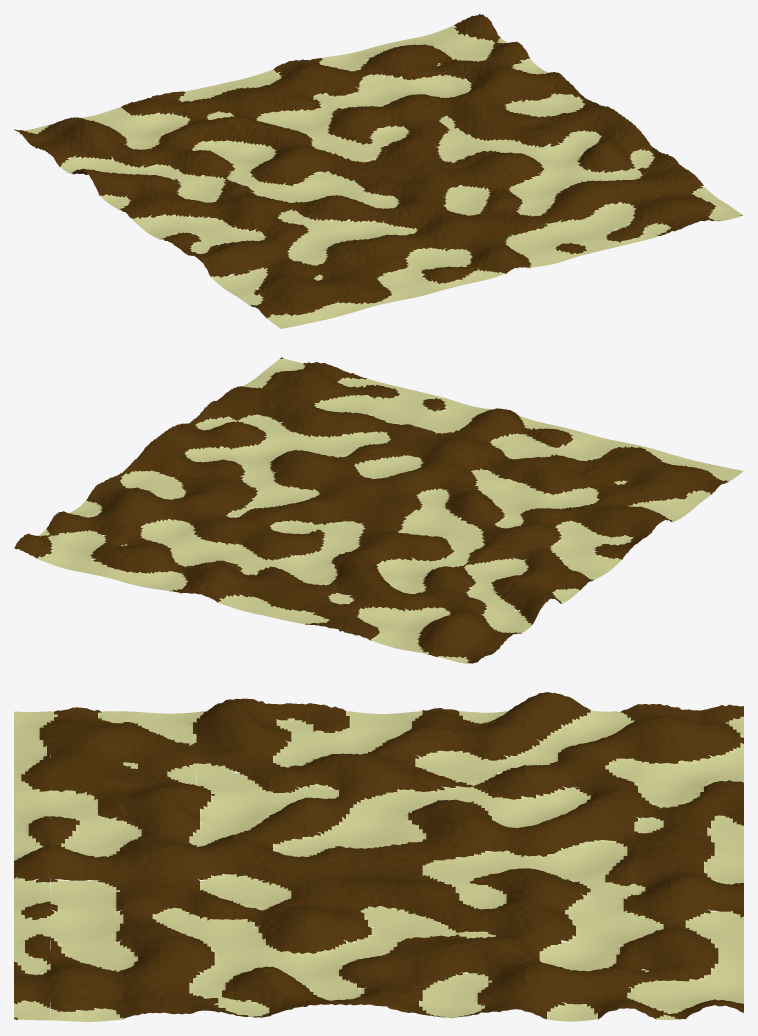
The model's file is TestSections.FBX.
3 renders of one model, top to bottom at view 1: azimuth 30°, elevation 25°; view 2: azimuth 150°, elevation 25°; view 3: azimuth 270°, elevation 25°, orthographic. The views are drawn at different scales.
Visible parts, largest first — view 1: Sector_7_16, Sector_1_6, Sector_7_8, Sector_1_14, Sector_2_17, Sector_8_15, Sector_18_7, Sector_17_4, Sector_10_1, Sector_18_14, Sector_5_14, Sector_7_12 (+15 smaller); view 2: Sector_18_8, Sector_17_15, Sector_7_13, Sector_2_20, Sector_10_2, Sector_2_19, Sector_15_5, Sector_7_9, Sector_8_14, Sector_2_7, Sector_2_4, Sector_1_7 (+13 smaller); view 3: Sector_9_16, Sector_17_13, Sector_3_18, Sector_11_6, Sector_19_15, Sector_19_7, Sector_19_16, Sector_11_7, Sector_3_19, Sector_16_8, Sector_6_15, Sector_11_2 (+226 smaller).
Part boxes in pixels (x1=…): Sector_7_16: x1=206, y1=119, x2=242, y2=149; Sector_1_6: x1=201, y1=251, x2=236, y2=280; Sector_7_8: x1=313, y1=197, x2=349, y2=227; Sector_1_14: x1=94, y1=176, x2=130, y2=202; Sector_2_17: x1=77, y1=139, x2=113, y2=168; Sector_8_15: x1=243, y1=125, x2=278, y2=154; Sector_18_7: x1=581, y1=144, x2=617, y2=174; Sector_17_4: x1=598, y1=183, x2=634, y2=209; Sector_10_1: x1=476, y1=250, x2=512, y2=278; Sector_18_14: x1=488, y1=76, x2=523, y2=104; Sector_5_14: x1=187, y1=152, x2=222, y2=179; Sector_7_12: x1=260, y1=160, x2=295, y2=187; Sector_18_8: x1=221, y1=423, x2=256, y2=454; Sector_17_15: x1=150, y1=502, x2=186, y2=529; Sector_7_13: x1=408, y1=537, x2=444, y2=564; Sector_2_20: x1=430, y1=633, x2=466, y2=660; Sector_10_2: x1=486, y1=412, x2=521, y2=439; Sector_2_19: x1=444, y1=618, x2=479, y2=648; Sector_15_5: x1=330, y1=416, x2=365, y2=441; Sector_7_9: x1=462, y1=496, x2=497, y2=522; Sector_8_14: x1=372, y1=544, x2=407, y2=570; Sector_2_7: x1=604, y1=506, x2=639, y2=531; Sector_2_4: x1=645, y1=479, x2=680, y2=504; Sector_1_7: x1=627, y1=510, x2=663, y2=533; Sector_9_16: x1=561, y1=818, x2=597, y2=851; Sector_17_13: x1=452, y1=941, x2=488, y2=973; Sector_3_18: x1=634, y1=717, x2=670, y2=754; Sector_11_6: x1=196, y1=851, x2=232, y2=882; Sector_19_15: x1=525, y1=966, x2=561, y2=1001; Sector_19_7: x1=233, y1=969, x2=269, y2=1004; Sector_19_16: x1=561, y1=970, x2=597, y2=1004; Sector_11_7: x1=233, y1=852, x2=269, y2=882; Sector_3_19: x1=671, y1=718, x2=707, y2=754; Sector_16_8: x1=269, y1=927, x2=305, y2=959; Sector_6_15: x1=525, y1=772, x2=561, y2=805; Sector_11_2: x1=50, y1=849, x2=86, y2=880.
Bounding box in the file's own units: 500 × 21.76 × 500.
